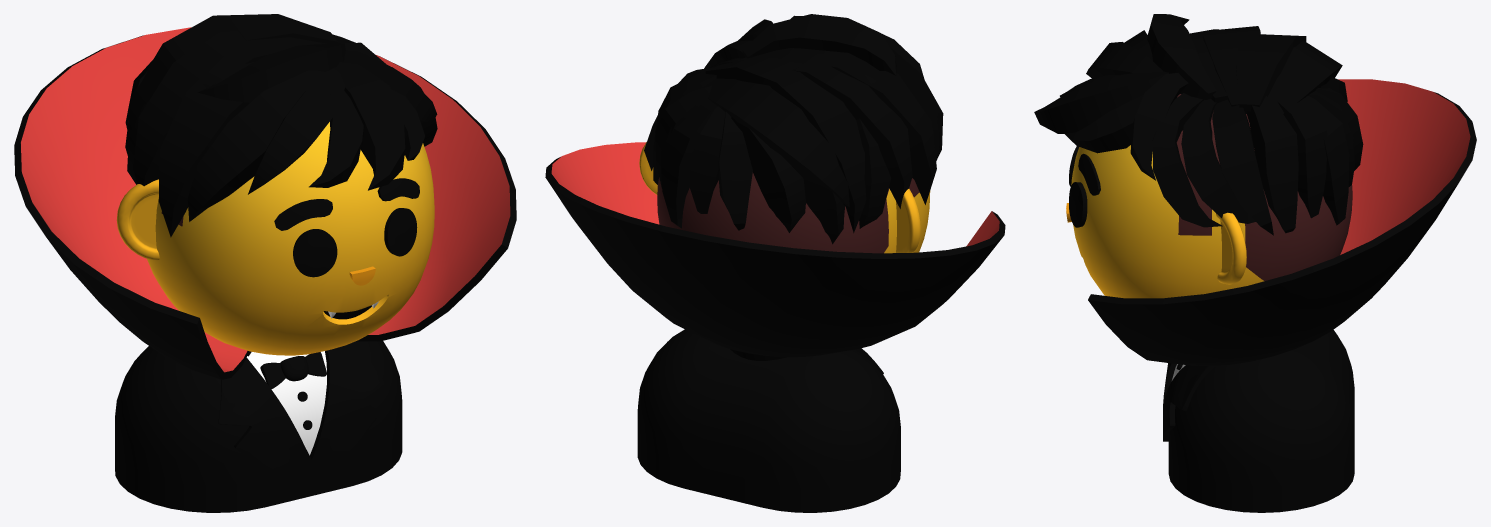
The model's file is vampire.gltf.
3 renders of one model, left to right at view 1: azimuth 30°, elevation 25°; view 2: azimuth 150°, elevation 25°; view 3: azimuth 270°, elevation 25°, orthographic. The views are drawn at different scales.
Visible parts, largest first — view 1: Circle.1025, Cube.2541, Roundcube.217, Sphere.172, Circle.1022, Circle.1019, Cylinder.185, Circle.1021, Circle.1023, Cube.2549; view 2: Cube.2541, Circle.1025, Sphere.172, Roundcube.217, Cylinder.185; view 3: Cube.2541, Circle.1025, Sphere.172, Roundcube.217, Circle.1022, Cylinder.185, Circle.1019, Circle.1021.
Boxes of the visible parts, left/top/right/bottom form: Circle.1025: left=14, top=27, right=516, bottom=379; Cube.2541: left=125, top=14, right=437, bottom=237; Roundcube.217: left=147, top=122, right=434, bottom=355; Sphere.172: left=115, top=341, right=402, bottom=512; Circle.1022: left=218, top=341, right=383, bottom=482; Circle.1019: left=293, top=208, right=417, bottom=277; Cylinder.185: left=116, top=179, right=159, bottom=260; Circle.1021: left=274, top=178, right=419, bottom=230; Circle.1023: left=260, top=352, right=326, bottom=389; Cube.2549: left=280, top=356, right=308, bottom=381; Cube.2541: left=644, top=14, right=943, bottom=244; Circle.1025: left=545, top=142, right=1005, bottom=360; Sphere.172: left=637, top=329, right=900, bottom=512; Roundcube.217: left=657, top=172, right=930, bottom=253; Cylinder.185: left=639, top=142, right=920, bottom=252; Cube.2541: left=1034, top=14, right=1363, bottom=235; Circle.1025: left=1088, top=79, right=1476, bottom=365; Sphere.172: left=1168, top=330, right=1354, bottom=512; Roundcube.217: left=1071, top=94, right=1352, bottom=298; Circle.1022: left=1163, top=363, right=1215, bottom=441; Cylinder.185: left=1216, top=212, right=1246, bottom=284; Circle.1019: left=1069, top=146, right=1087, bottom=227; Circle.1021: left=1078, top=153, right=1100, bottom=195.
Bounding box in the file's own units: 2.53 × 2.48 × 2.38.
2 materials, 2 textured.
